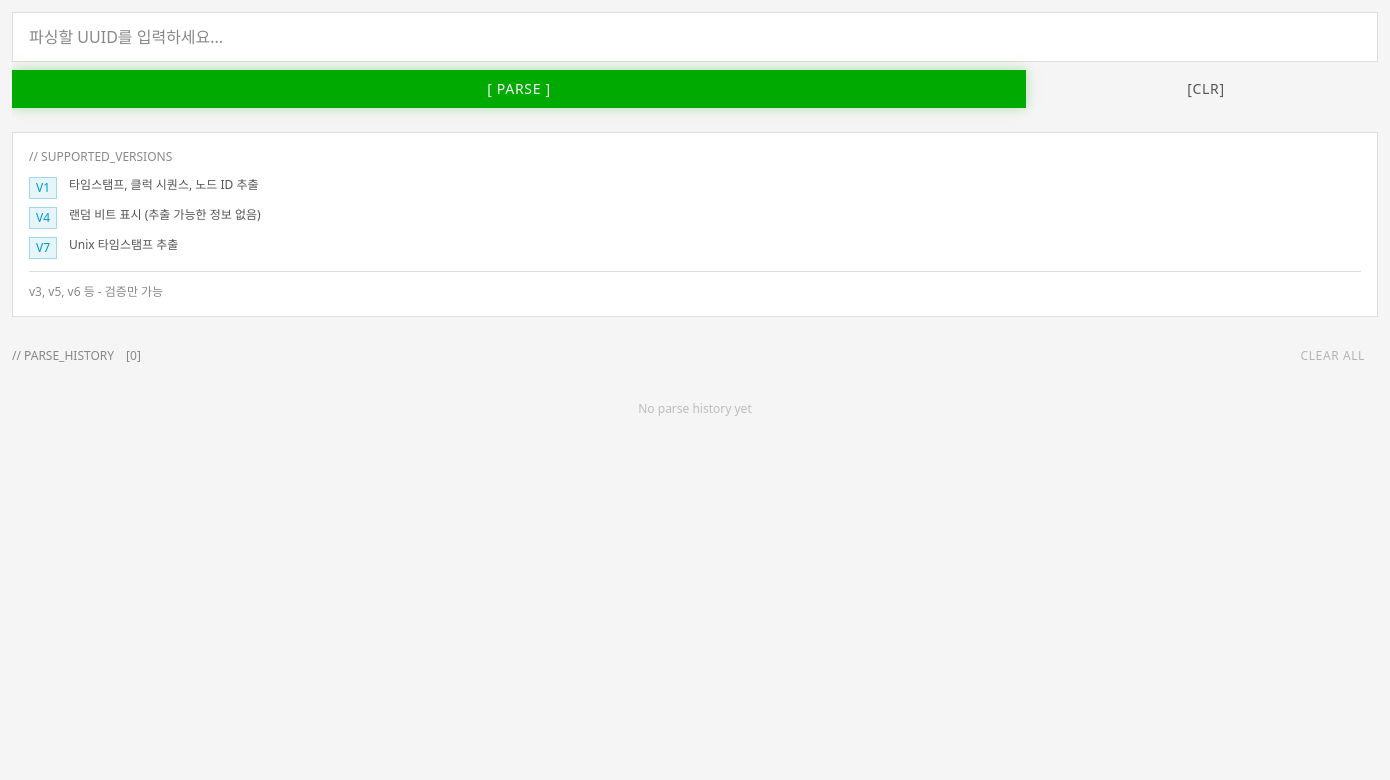
it: UuidParser › v4 UUID 파싱 시 랜덤 비트를 표시해야 함
Type "550e8400-e29b-41d4-a716-446655440000" into the field with placeholder "파싱할 UUID를 입력하세요..." at x=695, y=37, box [12,12,1378,62]
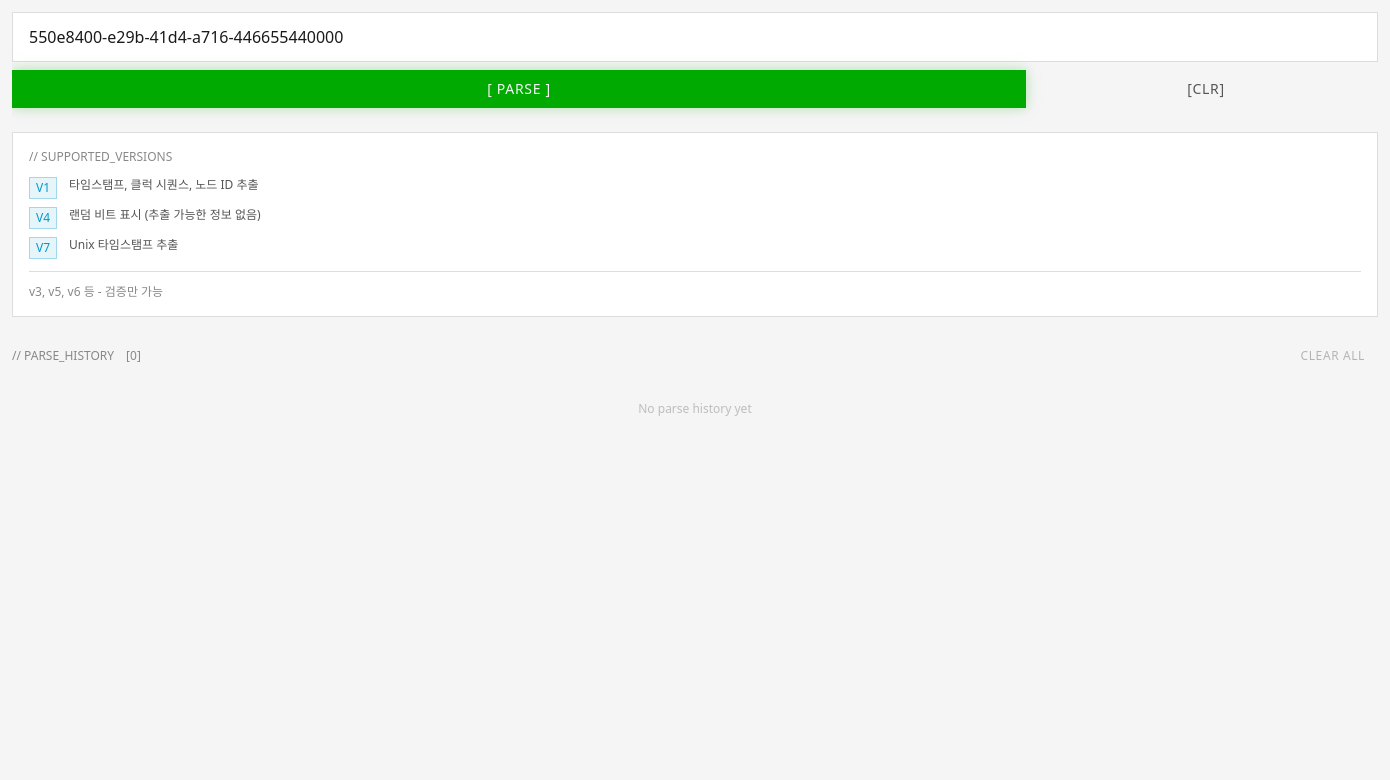
Click the text "[ PARSE ]" at x=519, y=89, box [487,79,551,99]
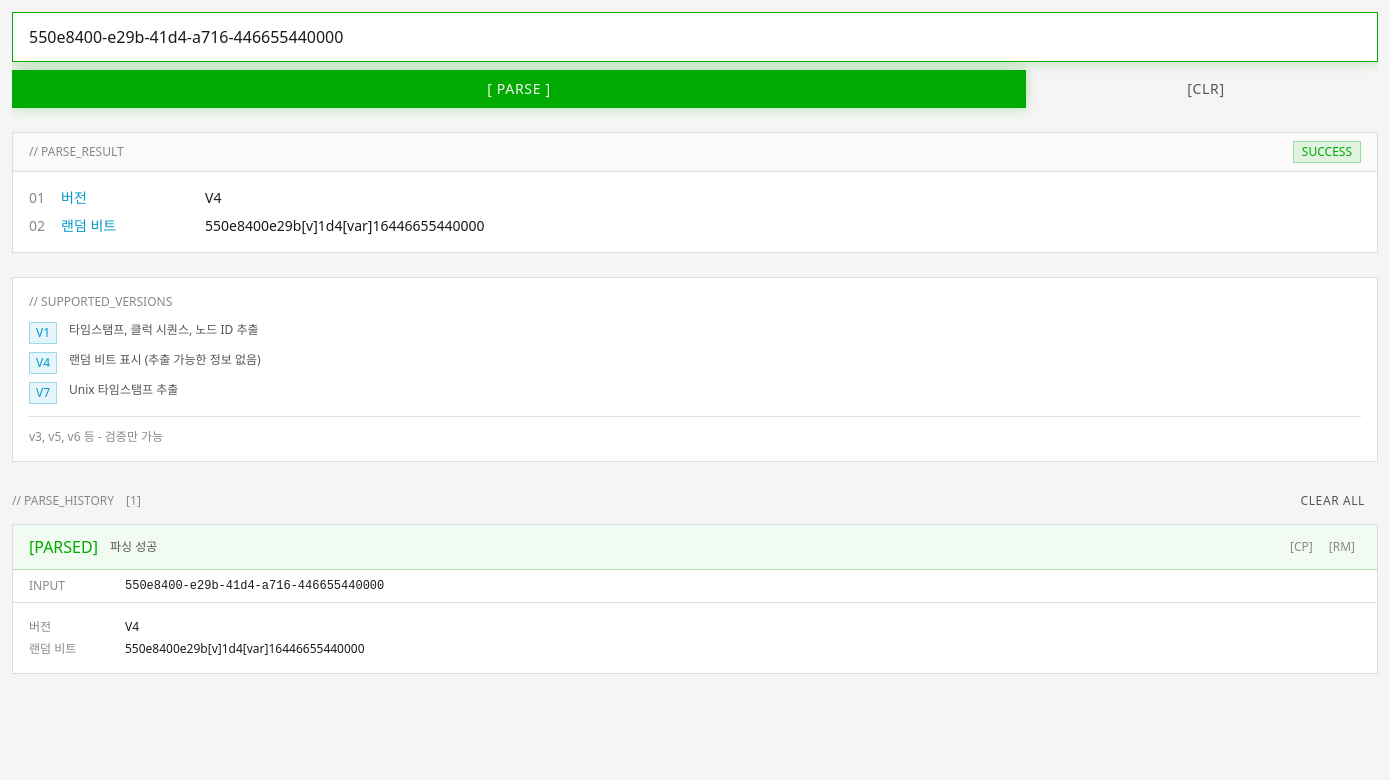
Now the text "SUCCESS" is shown, box [1293,141,1361,163]
